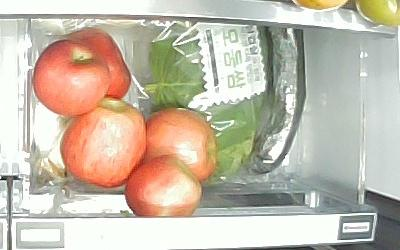apple: (60, 98, 145, 188), (31, 39, 112, 118), (145, 107, 217, 183), (61, 28, 131, 101), (126, 156, 205, 218)
